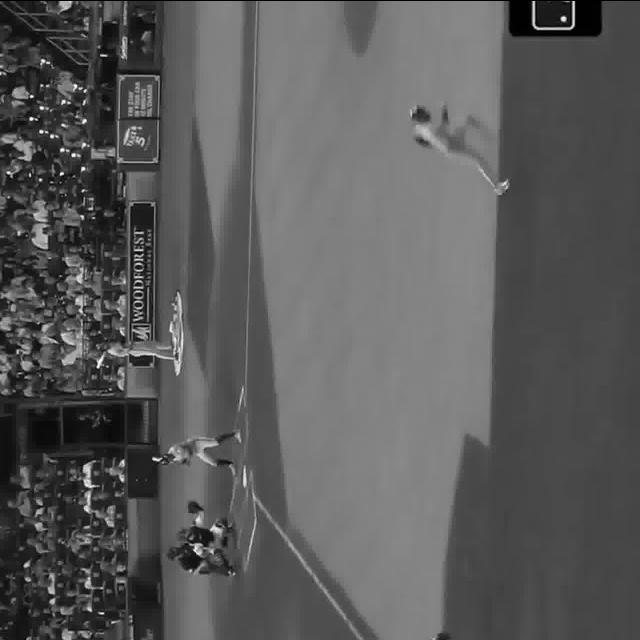base: (242, 468, 250, 486)
baseball_glove: (185, 501, 202, 513)
bat: (93, 341, 113, 370), (150, 454, 191, 465)
shoe: (494, 176, 514, 196), (226, 456, 238, 475), (234, 428, 243, 444), (227, 562, 234, 576)
